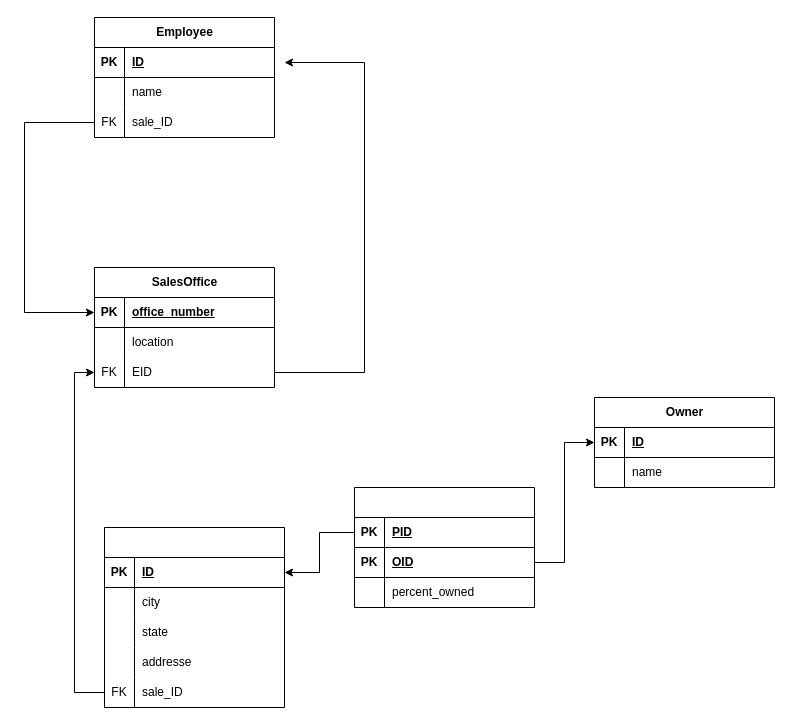
Some shapes in this 792 by 725 pixel diagram are drawn without their labels. Each missing label, with the box of its shape:
Property: (104, 526, 284, 708)
Property_has_Owner: (354, 486, 534, 608)
